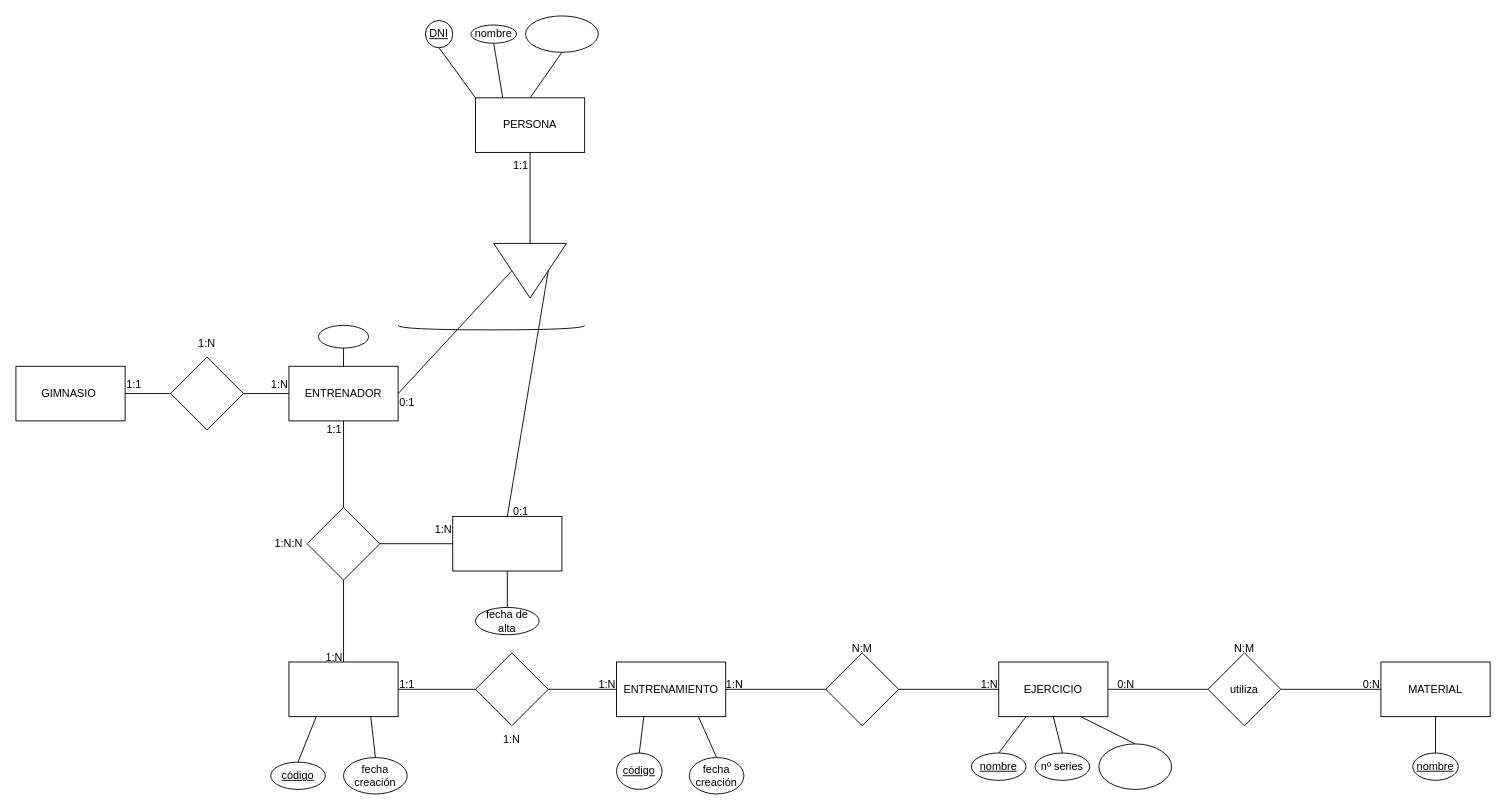
Some shapes in this 1506 by 810 pixel diagram are drawn without their labels. Here are the shapes that lost their labels. From the top down, the box of each, then its label:
(525, 15, 598, 52): Primer apellido
(318, 324, 369, 348): salario
(170, 356, 243, 430): trabajan
(306, 506, 380, 580): PLANIFICA
(452, 516, 562, 571): CLIENTE
(288, 661, 398, 717): PLANIFICACIÓN
(475, 652, 548, 726): formada
(825, 652, 899, 726): Formado por
(1098, 743, 1172, 789): nº repeticiones
